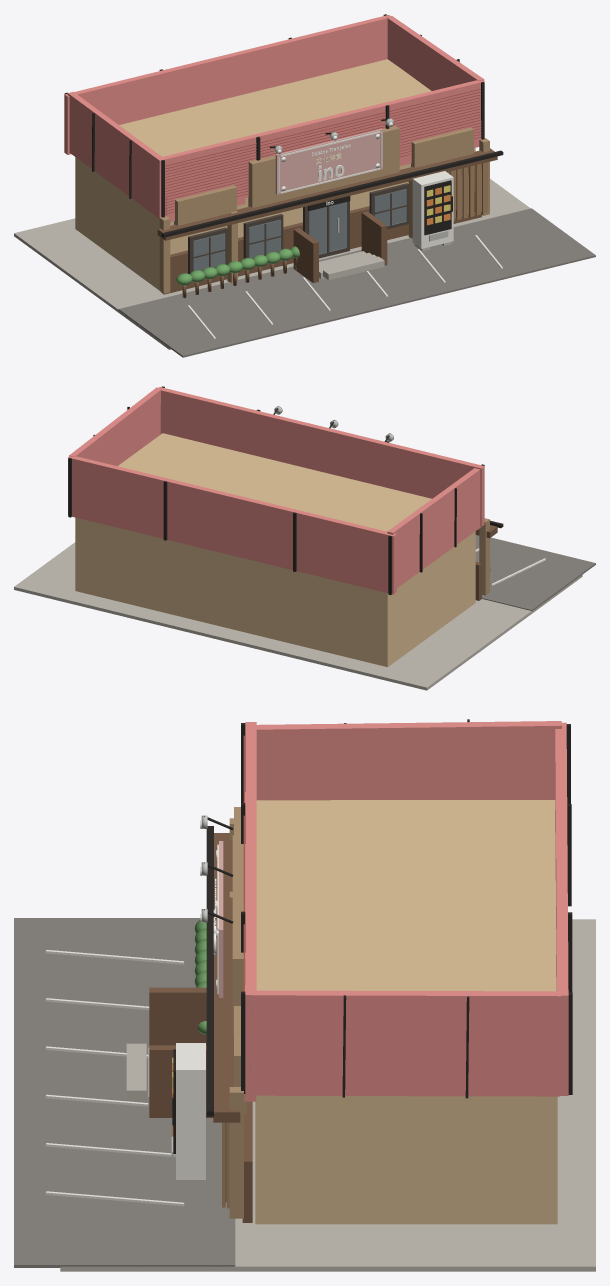
File: ino.glb
3 views of the same model, one above another, from view 1: azimuth 30°, elevation 25°; view 2: azimuth 150°, elevation 25°; view 3: azimuth 270°, elevation 25° (orthographic). The views are drawn at different scales.
Visible parts, largest first — view 1: INO1_Parking, INO1_MainBuilding, INO1_UpperRedWall.024, INO1_UpperRedWall, INO1_Ground, INO1_UpperRedWall.016, INO1_MainSignBoard, INO1_UpperRedWall.002, INO1_CenterBrownFacade, INO1_LongFrontEave, INO1_LowerDarkWoodWall, INO1_EntranceFrame (+22 smaller); view 2: INO1_MainBuilding, INO1_UpperRedWall.024, INO1_UpperRedWall, INO1_Ground, INO1_UpperRedWall.016, INO1_Parking, INO1_UpperRedWall.002, INO1_FrontSupportColumn_0; view 3: INO1_MainBuilding, INO1_Parking, INO1_UpperRedWall.002, INO1_Ground, INO1_UpperRedWall.016, INO1_LongFrontEave, INO1_UpperRedWall.024, INO1_VendingMachineBody, INO1_UpperRedWall, INO1_EntranceFence_L, INO1_ThinBlackRoofEdge, INO1_CenterBrownFacade (+5 smaller).
Part boxes in pixels (<box>): INO1_Parking: <box>118,208,595,357</box>; INO1_MainBuilding: <box>75,59,475,290</box>; INO1_UpperRedWall.024: <box>64,15,389,154</box>; INO1_UpperRedWall: <box>156,80,484,218</box>; INO1_Ground: <box>14,179,530,349</box>; INO1_UpperRedWall.016: <box>67,91,161,215</box>; INO1_MainSignBoard: <box>275,128,382,194</box>; INO1_UpperRedWall.002: <box>386,16,484,90</box>; INO1_CenterBrownFacade: <box>248,126,399,207</box>; INO1_LongFrontEave: <box>157,148,497,240</box>; INO1_LowerDarkWoodWall: <box>161,206,481,294</box>; INO1_EntranceFrame: <box>303,201,349,258</box>; INO1_MainBuilding: <box>75,433,475,667</box>; INO1_UpperRedWall.024: <box>68,456,396,594</box>; INO1_UpperRedWall: <box>158,387,484,526</box>; INO1_Ground: <box>14,542,582,690</box>; INO1_UpperRedWall.016: <box>387,468,480,587</box>; INO1_Parking: <box>475,535,595,611</box>; INO1_UpperRedWall.002: <box>69,387,161,466</box>; INO1_FrontSupportColumn_0: <box>479,518,489,595</box>; INO1_MainBuilding: <box>255,800,557,1224</box>; INO1_Parking: <box>14,918,235,1267</box>; INO1_UpperRedWall.002: <box>250,990,561,1096</box>; INO1_Ground: <box>60,919,595,1271</box>; INO1_UpperRedWall.016: <box>256,721,561,800</box>; INO1_LongFrontEave: <box>213,833,240,1122</box>; INO1_UpperRedWall.024: <box>555,722,568,1095</box>; INO1_VendingMachineBody: <box>176,1043,205,1179</box>; INO1_UpperRedWall: <box>245,722,256,1095</box>; INO1_EntranceFence_L: <box>149,987,206,1045</box>; INO1_ThinBlackRoofEdge: <box>206,826,213,1116</box>; INO1_CenterBrownFacade: <box>232,835,245,1034</box>.
Bounding box in the file's own units: 11.5 × 3.75 × 8.15.
